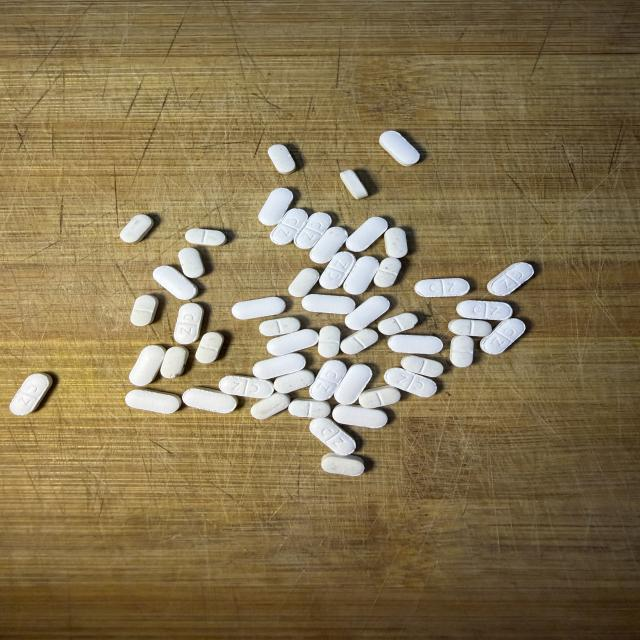pill: (10, 373, 52, 415), (310, 418, 355, 455), (480, 318, 525, 354), (345, 296, 390, 330), (334, 364, 372, 404), (487, 263, 533, 296), (384, 368, 436, 397), (153, 266, 198, 299), (129, 345, 165, 386), (310, 360, 346, 400), (346, 217, 387, 252), (379, 131, 419, 166), (125, 389, 181, 414), (267, 329, 318, 356), (294, 212, 331, 249), (310, 227, 348, 263), (270, 209, 308, 245), (183, 388, 237, 413), (343, 257, 379, 294), (253, 354, 306, 379), (320, 252, 355, 289), (259, 188, 293, 226), (332, 405, 387, 428), (174, 303, 203, 344), (219, 376, 273, 398), (232, 297, 285, 319), (457, 300, 512, 320), (388, 334, 442, 354), (415, 278, 469, 297), (251, 393, 290, 419), (302, 295, 355, 314), (321, 453, 364, 476), (340, 329, 378, 354), (401, 355, 443, 377), (120, 215, 153, 243), (274, 370, 314, 393), (359, 386, 400, 408), (195, 332, 224, 363), (160, 346, 188, 378), (289, 268, 319, 297), (339, 170, 368, 200), (378, 313, 417, 335), (268, 144, 296, 174), (131, 295, 158, 326), (374, 258, 401, 287), (289, 399, 330, 418), (259, 317, 300, 336), (178, 248, 204, 277), (449, 336, 473, 367), (185, 228, 226, 246), (449, 319, 492, 336), (385, 227, 407, 258), (318, 326, 340, 357)
